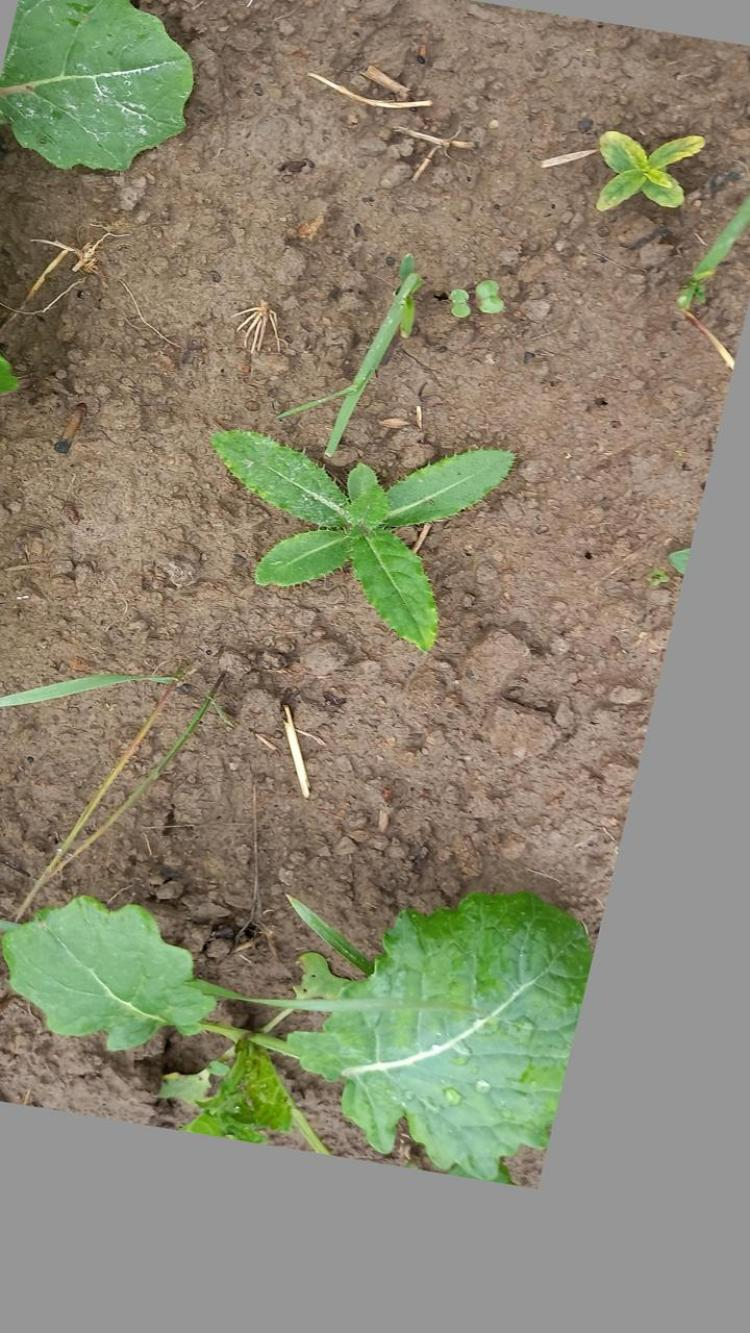bodyak: (200, 419, 525, 660)
